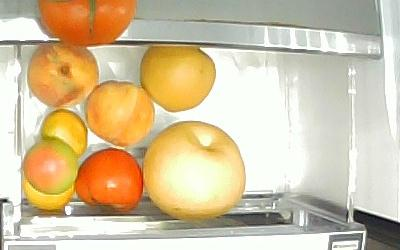peach: (83, 78, 156, 147), (26, 42, 99, 108)
pear: (140, 119, 246, 220), (138, 44, 216, 112)
tangerine: (39, 108, 88, 157), (21, 166, 75, 210)
tomato: (73, 147, 144, 211), (21, 137, 77, 195)
